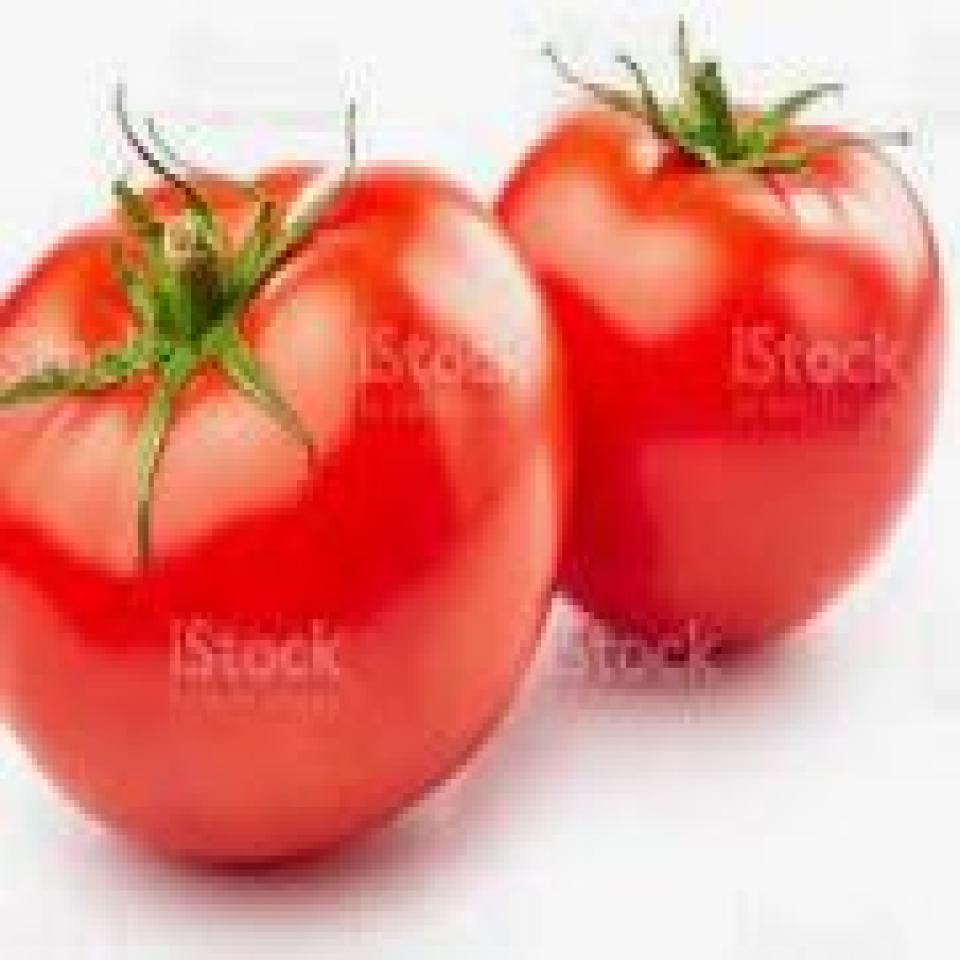Healthy: (0, 112, 556, 890), (516, 63, 949, 662)
